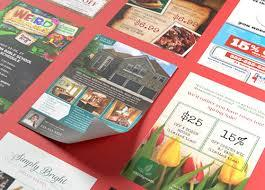Printing industry: (1, 4, 265, 190)
